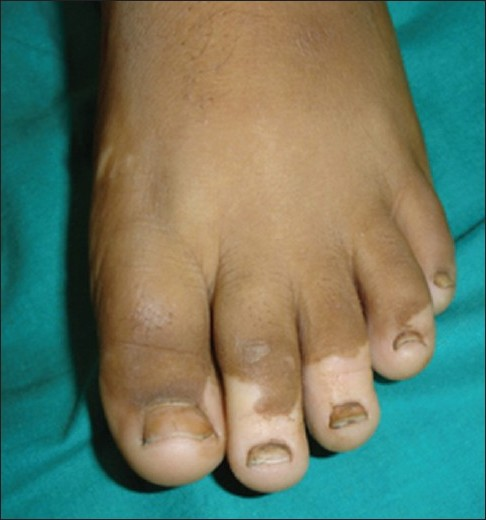vitiligo: (100, 243, 421, 457)
